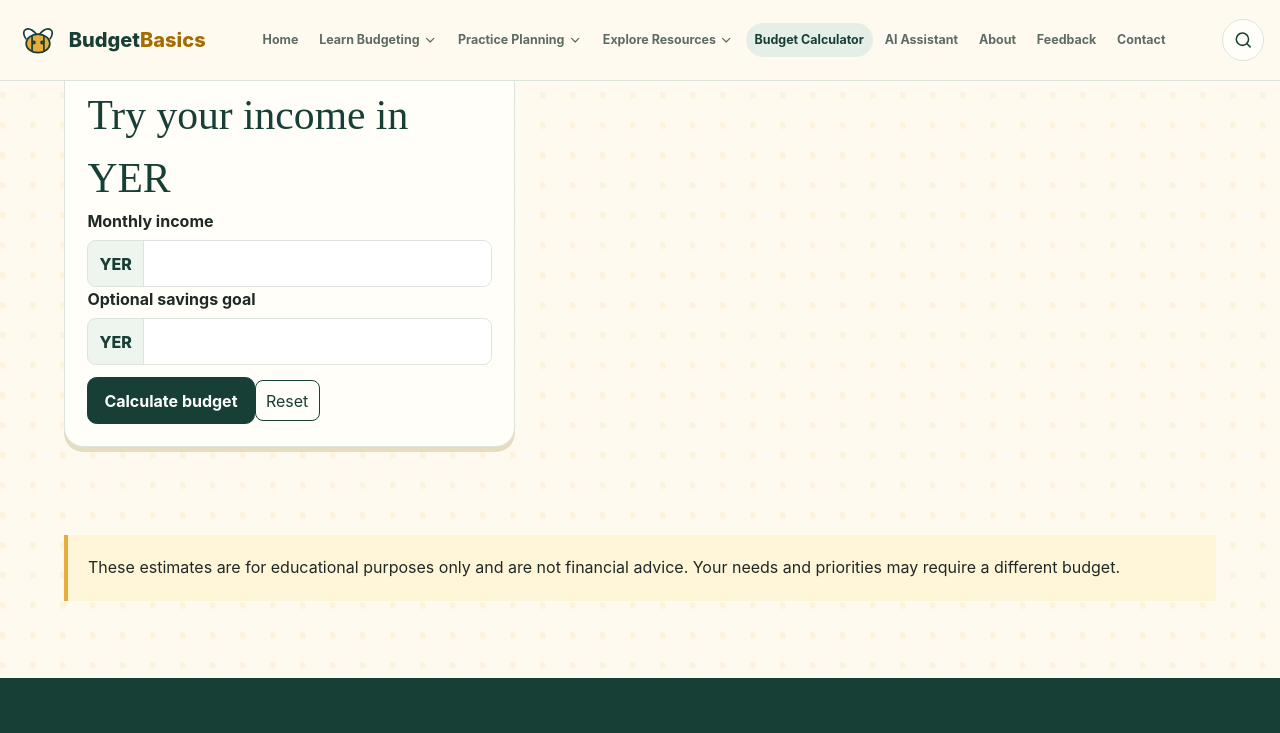
Test: budget calculator › rejects invalid income
(page scrolled)
Click the button "Calculate budget": (171, 400) [87, 377, 254, 424]
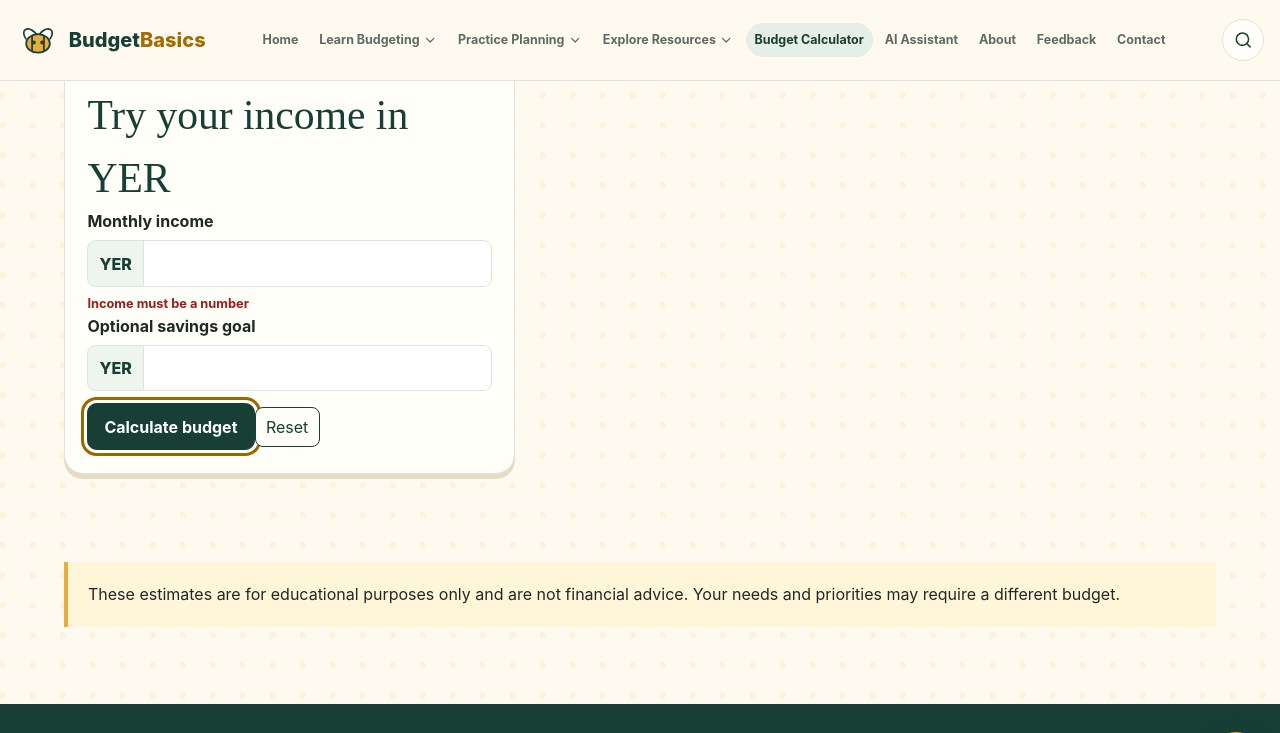
Check: the message "Income must be a number" is shown, box [87, 296, 249, 311]
